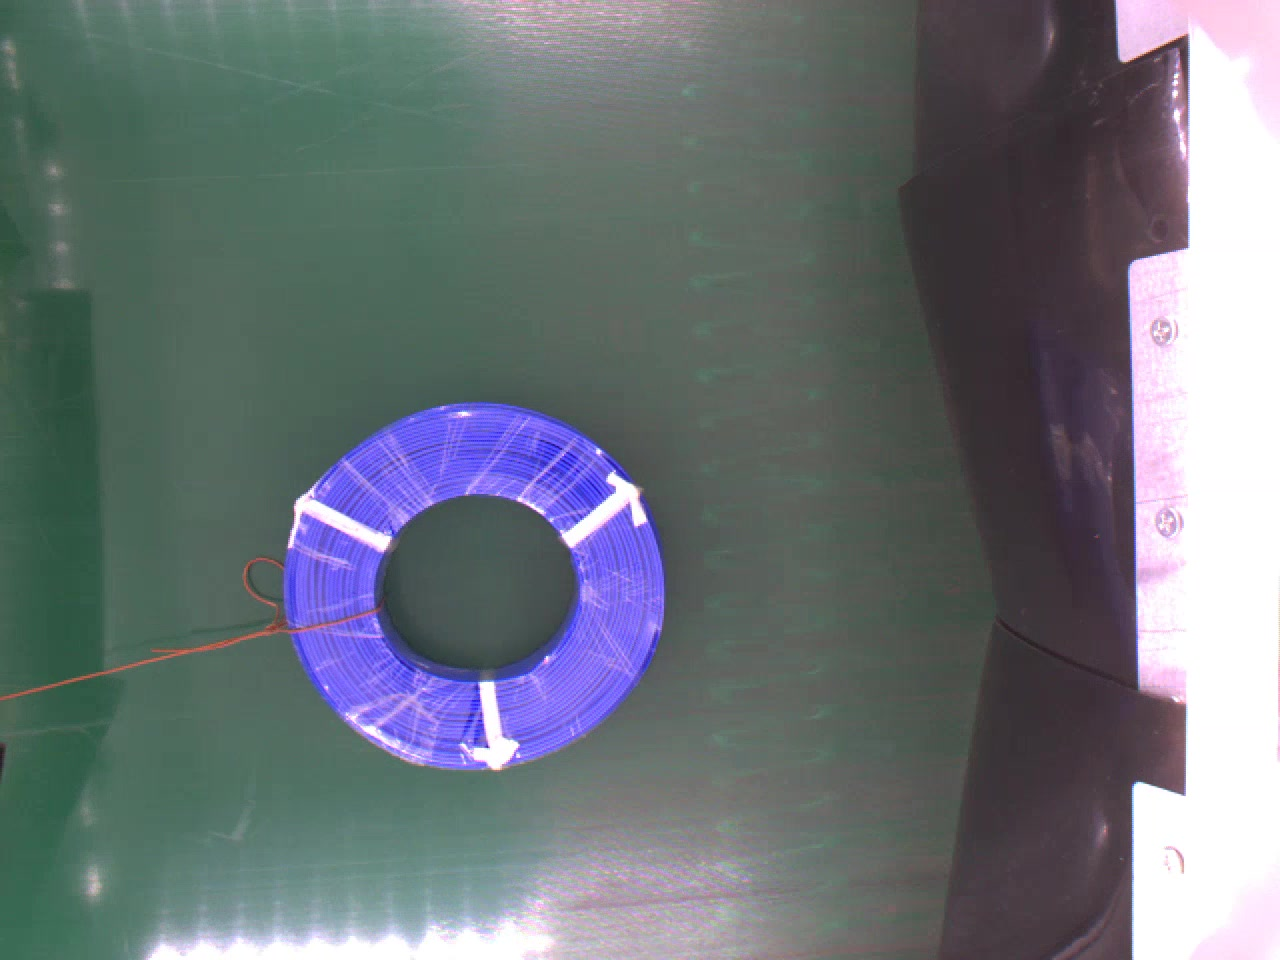blue: (283, 402, 661, 776)
